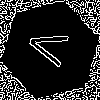V: (25, 25, 78, 70)
